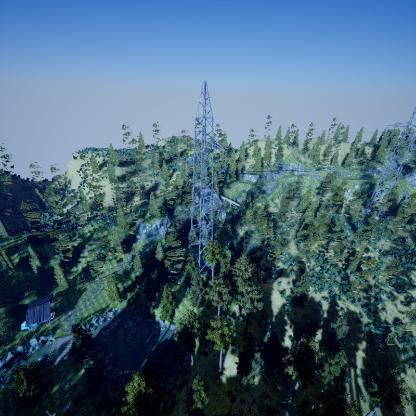tower: (187, 79, 229, 279)
